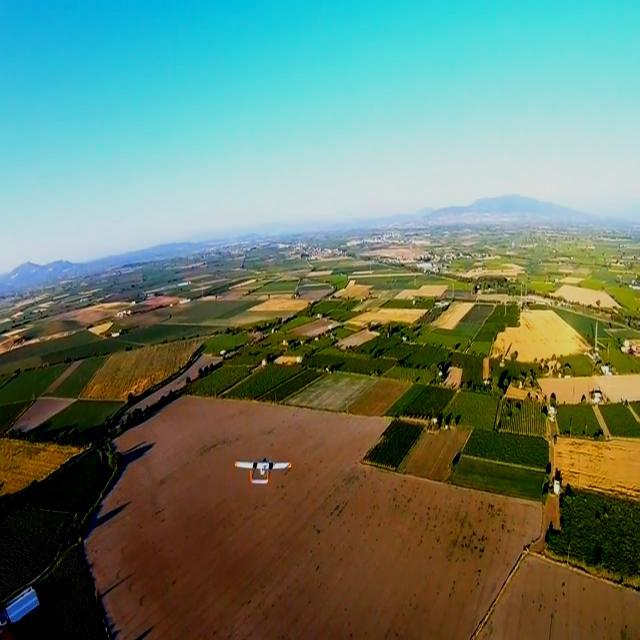iha: (227, 456, 287, 487)
